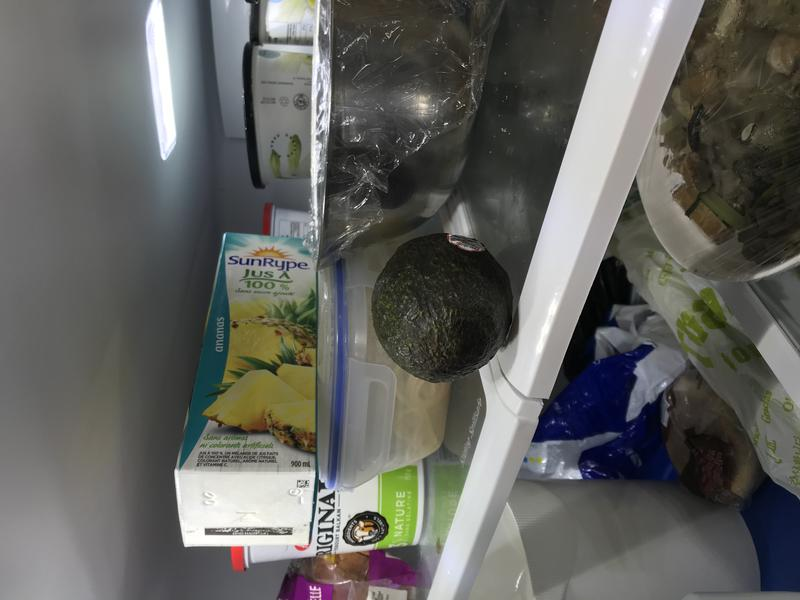avacado: (369, 229, 517, 386)
